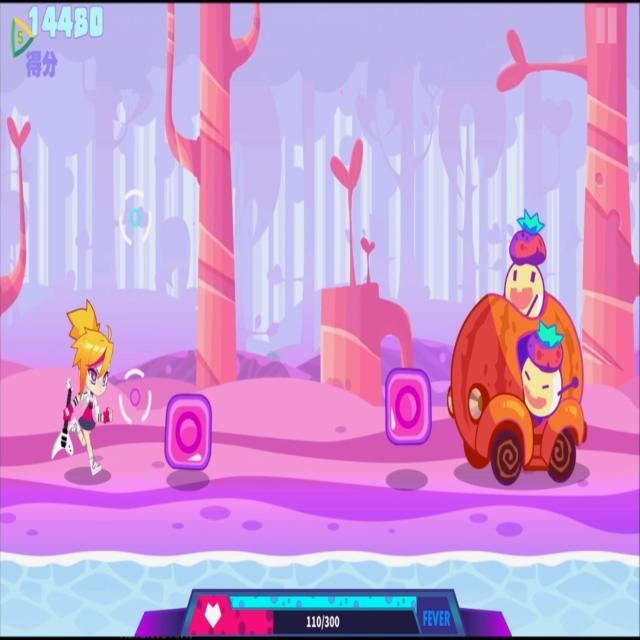Boss-Pumpkin: (442, 208, 588, 496)
Ground-Monster---Cube: (161, 386, 214, 484), (382, 360, 434, 456)
